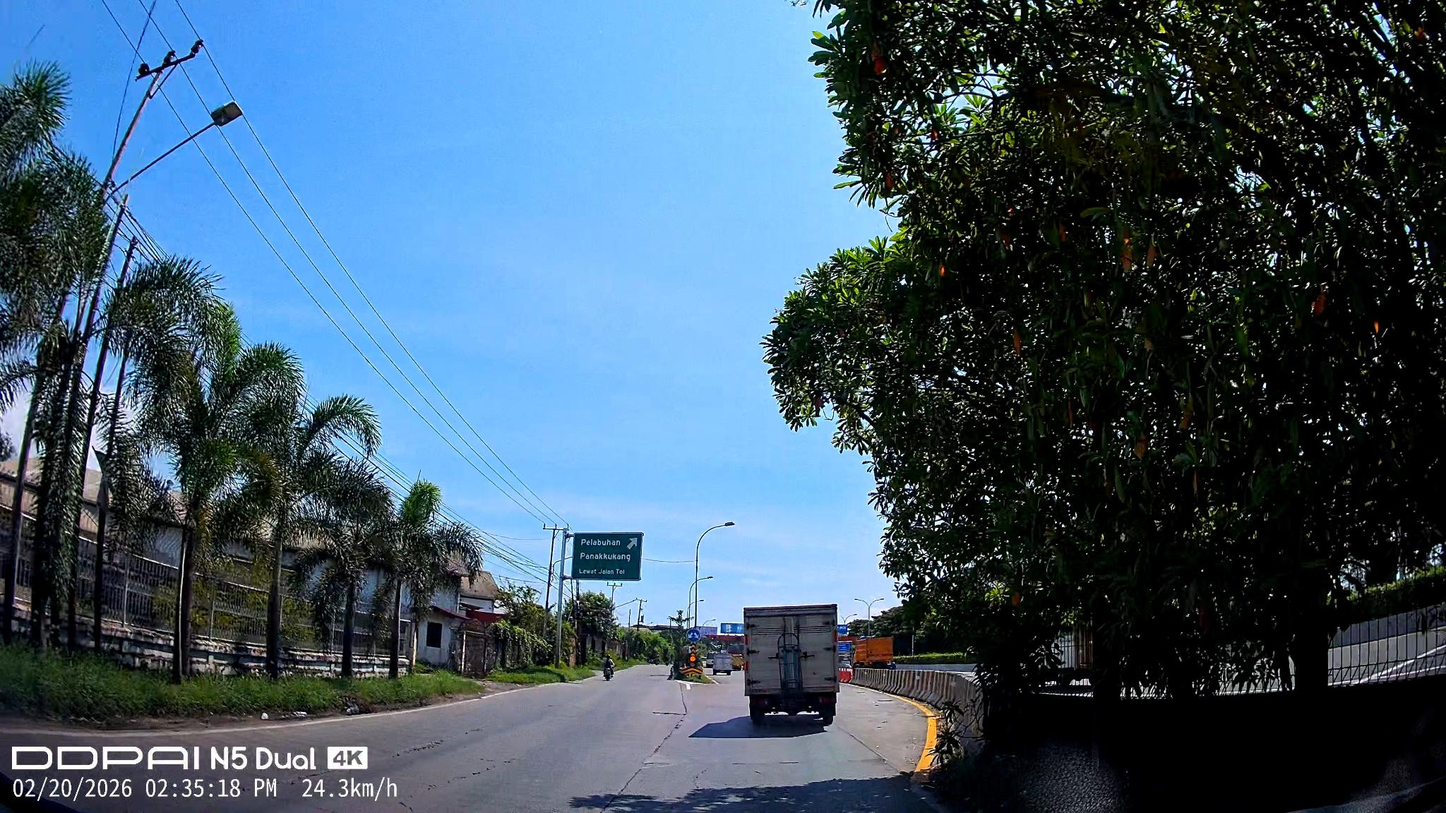rambu_teks: (571, 532, 644, 582)
